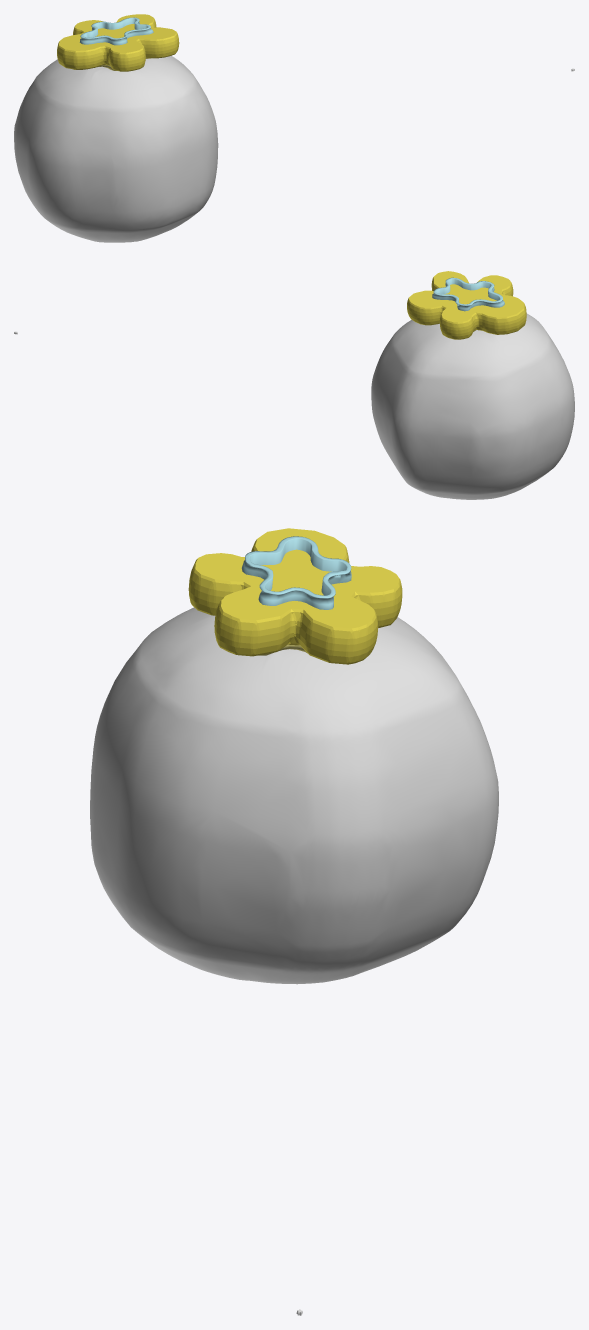
File: flower27.glb
3 views of the same model, one above another, from view 1: azimuth 30°, elevation 25°; view 2: azimuth 150°, elevation 25°; view 3: azimuth 270°, elevation 25° (orthographic). The views are drawn at different scales.
Parts seen in each view (by area): view 1: Cylinder.045, Plane.198, Plane.199; view 2: Cylinder.045, Plane.198, Plane.199; view 3: Cylinder.045, Plane.198, Plane.199.
Boxes of the visible parts, <box> form: Cylinder.045: <box>14,56,218,242</box>; Plane.198: <box>57,14,179,71</box>; Plane.199: <box>79,17,153,45</box>; Cylinder.045: <box>371,313,574,499</box>; Plane.198: <box>407,271,526,339</box>; Plane.199: <box>432,277,504,311</box>; Cylinder.045: <box>90,607,498,984</box>; Plane.198: <box>188,528,402,664</box>; Plane.199: <box>241,536,351,609</box>.
Size of the model in its own units: 249 by 85.97 by 81.16.
